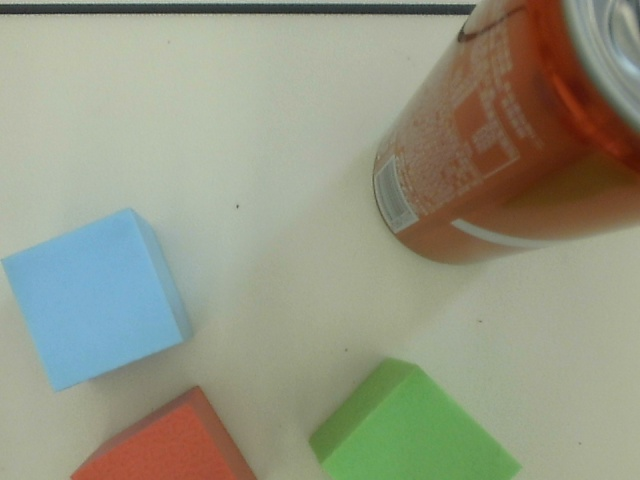bluecube: (1, 205, 219, 389)
cola: (369, 1, 640, 279)
greencube: (307, 358, 527, 480)
redcube: (65, 382, 265, 480)
